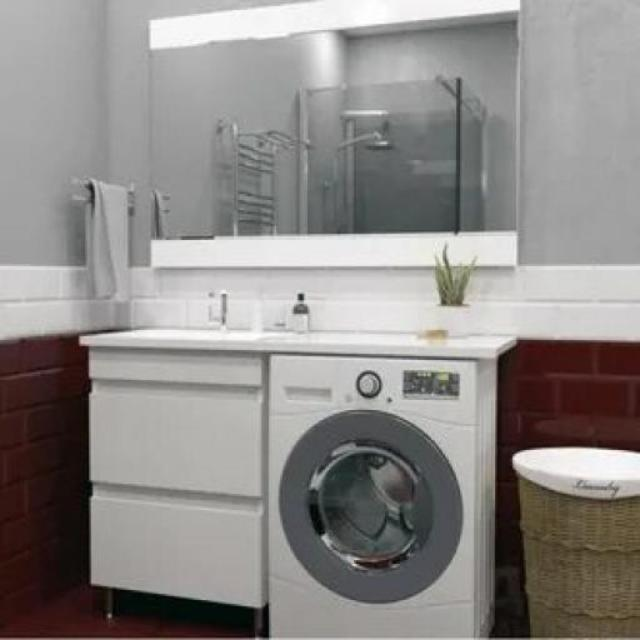Washing-Machine: (264, 353, 502, 639)
